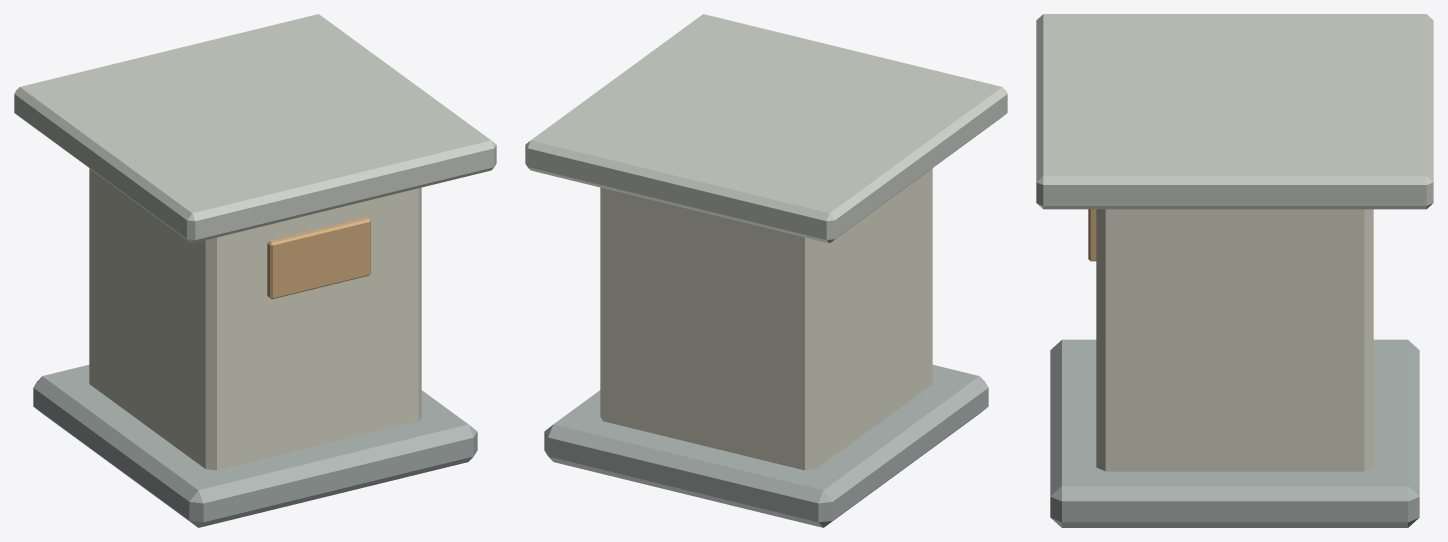
The picture shows the model from 3 angles, left to right: view 1: azimuth 30°, elevation 25°; view 2: azimuth 150°, elevation 25°; view 3: azimuth 270°, elevation 25°; orthographic projection. The views are drawn at different scales.
Parts seen in each view (by area): view 1: museum-exhibit-plinth-01; view 2: museum-exhibit-plinth-01; view 3: museum-exhibit-plinth-01.
Part boxes in pixels (x1,y1,x2,y2): museum-exhibit-plinth-01: (14, 14, 496, 527); museum-exhibit-plinth-01: (525, 14, 1007, 527); museum-exhibit-plinth-01: (1036, 14, 1433, 527).
Bounding box in the file's own units: 0.86 × 0.86 × 0.86.
